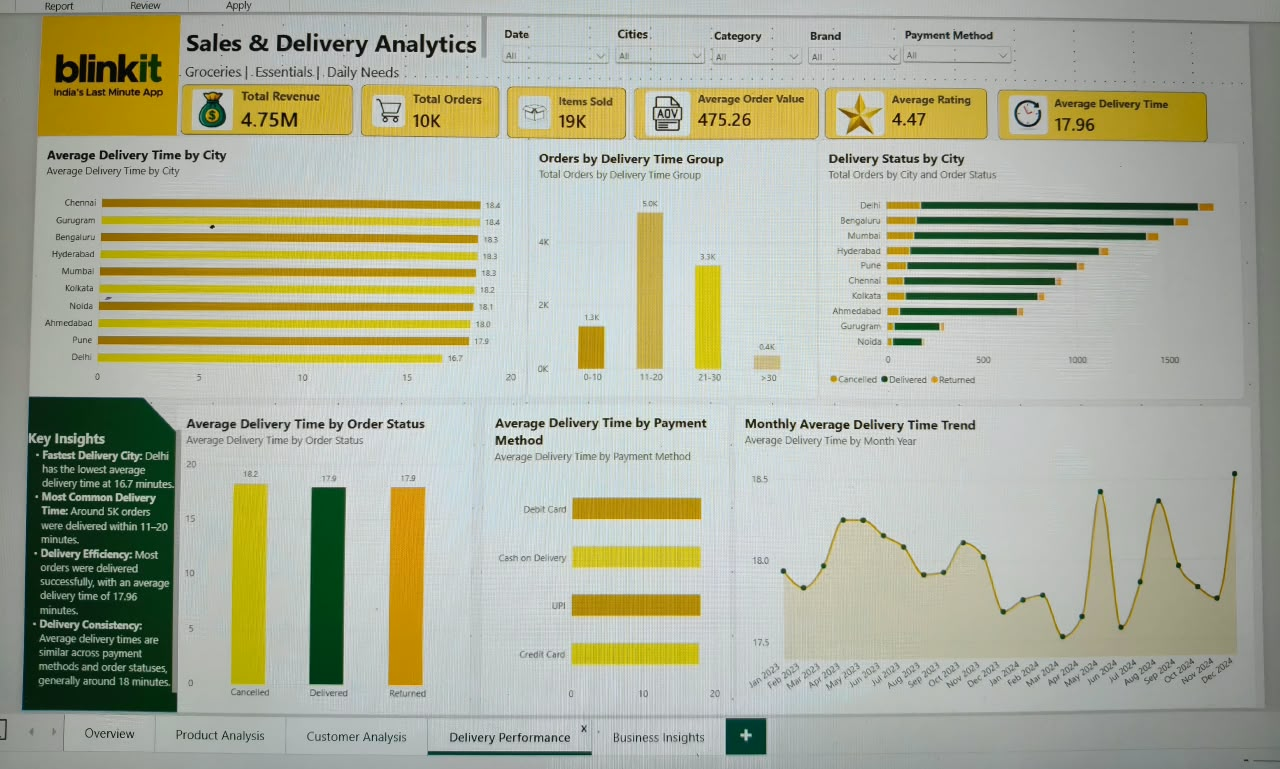

The page's visual inventory and layout, read from the dashboard file:
{"tool":"powerbi","page":{"name":"Delivery Performance","canvas":[1920,1080],"ordinal":3},"visuals":[{"type":"image","box":[0,0,221.7,192.1],"z":1},{"type":"textbox","box":[232.1,0,471.5,75.4],"z":5},{"type":"textbox","box":[372,192,804,138],"z":6},{"type":"textbox","box":[372,330,804,74],"z":7},{"type":"textbox","box":[232.1,75.4,818.8,35.5],"z":8},{"type":"slicer","fields":{"Values":["Calendar1.Date"]},"box":[722.8,16.3,177.4,69.4],"z":9},{"type":"slicer","fields":{"Values":["Cities.City"]},"box":[900.1,13.3,151.6,69.4],"z":10},{"type":"slicer","fields":{"Values":["Orders.Category"]},"box":[1052.4,16.3,151.6,69.4],"z":11},{"type":"slicer","fields":{"Values":["Orders.Brand"]},"box":[1204.6,16.3,156.5,72.6],"z":12},{"type":"slicer","fields":{"Values":["Orders.Payment Method"]},"box":[1353.9,11.8,182.3,64.5],"z":13},{"type":"cardVisual","fields":{"Data":["Calendar1.Total Revenue"]},"box":[226.1,110.9,270.5,81.3],"z":14},{"type":"cardVisual","fields":{"Data":["Calendar1.Total Orders"]},"box":[508.5,110.9,214.3,81.3],"z":15},{"type":"cardVisual","fields":{"Data":["Calendar1.Items Sold"]},"box":[734.6,110.9,187.7,81.3],"z":16},{"type":"cardVisual","fields":{"Data":["Calendar1.Average Order Value"]},"box":[934.1,110.9,291.2,81.3],"z":17},{"type":"cardVisual","fields":{"Data":["Calendar1.Average Rating"]},"box":[1235.7,110.9,255.7,81.3],"z":18},{"type":"cardVisual","fields":{"Data":["Calendar1.Average Delivery Time"]},"box":[1507,111.6,338.4,80.2],"z":19},{"type":"textbox","box":[0,744,240,312],"z":34},{"type":"clusteredBarChart","title":"Average Delivery Time by City","fields":{"Category":["Orders.City"],"Y":["Calendar1.Average Delivery Time"]},"box":[0,192,768,408],"z":35},{"type":"clusteredColumnChart","title":"Orders by Delivery Time Group","fields":{"Category":["Orders.Delivery Time Group"],"Y":["Calendar1.Total Orders"]},"box":[768,192,456,408],"z":36},{"type":"barChart","title":"Delivery Status by City","fields":{"Category":["Orders.City"],"Y":["Calendar1.Total Orders"],"Series":["Orders.Order Status"]},"box":[1224,192,672,408],"z":37},{"type":"clusteredColumnChart","title":"Average Delivery Time by Order Status","fields":{"Category":["Orders.Order Status"],"Y":["Calendar1.Average Delivery Time"]},"box":[232,608.7,457,470.9],"z":38},{"type":"clusteredBarChart","title":"Average Delivery Time by Payment Method","fields":{"Category":["Orders.Payment Method"],"Y":["Calendar1.Average Delivery Time"]},"box":[702.9,608.7,382,470.9],"z":39},{"type":"lineChart","title":"Monthly Average Delivery Time Trend","fields":{"Category":["Calendar1.Month Year"],"Y":["Calendar1.Average Delivery Time"]},"box":[1091.9,608.7,814.5,470.9],"z":40},{"type":"shape","box":[0,600,240,480],"z":41},{"type":"textbox","box":[0,648,240,408],"z":43}]}

Visuals, with their boxes on the page's 1920x1080 design canvas (x1, y1, x2, y2). These are canvas units, not pixel positions in the 1280x769 screenshot, which may show the page scaled, cropped or inside an application window:
image: locate(0, 0, 222, 192)
textbox: locate(232, 0, 704, 75)
textbox: locate(372, 192, 1176, 330)
textbox: locate(372, 330, 1176, 404)
textbox: locate(232, 75, 1051, 111)
slicer - Calendar1.Date: locate(723, 16, 900, 86)
slicer - Cities.City: locate(900, 13, 1052, 83)
slicer - Orders.Category: locate(1052, 16, 1204, 86)
slicer - Orders.Brand: locate(1205, 16, 1361, 89)
slicer - Orders.Payment Method: locate(1354, 12, 1536, 76)
cardVisual - Calendar1.Total Revenue: locate(226, 111, 497, 192)
cardVisual - Calendar1.Total Orders: locate(508, 111, 723, 192)
cardVisual - Calendar1.Items Sold: locate(735, 111, 922, 192)
cardVisual - Calendar1.Average Order Value: locate(934, 111, 1225, 192)
cardVisual - Calendar1.Average Rating: locate(1236, 111, 1491, 192)
cardVisual - Calendar1.Average Delivery Time: locate(1507, 112, 1845, 192)
textbox: locate(0, 744, 240, 1056)
"Average Delivery Time by City" clusteredBarChart: locate(0, 192, 768, 600)
"Orders by Delivery Time Group" clusteredColumnChart: locate(768, 192, 1224, 600)
"Delivery Status by City" barChart: locate(1224, 192, 1896, 600)
"Average Delivery Time by Order Status" clusteredColumnChart: locate(232, 609, 689, 1080)
"Average Delivery Time by Payment Method" clusteredBarChart: locate(703, 609, 1085, 1080)
"Monthly Average Delivery Time Trend" lineChart: locate(1092, 609, 1906, 1080)
shape: locate(0, 600, 240, 1080)
textbox: locate(0, 648, 240, 1056)
